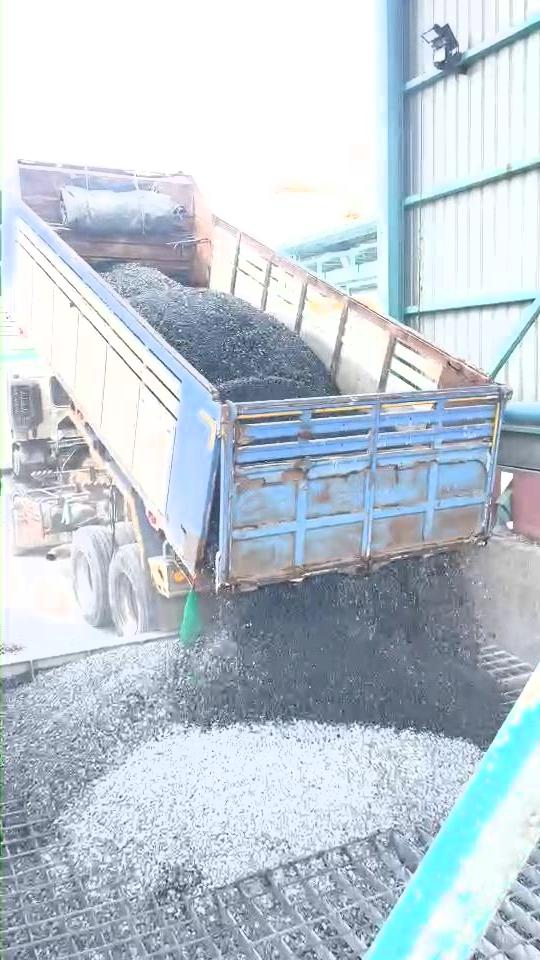gravel: (4, 581, 498, 894), (102, 263, 337, 400)
